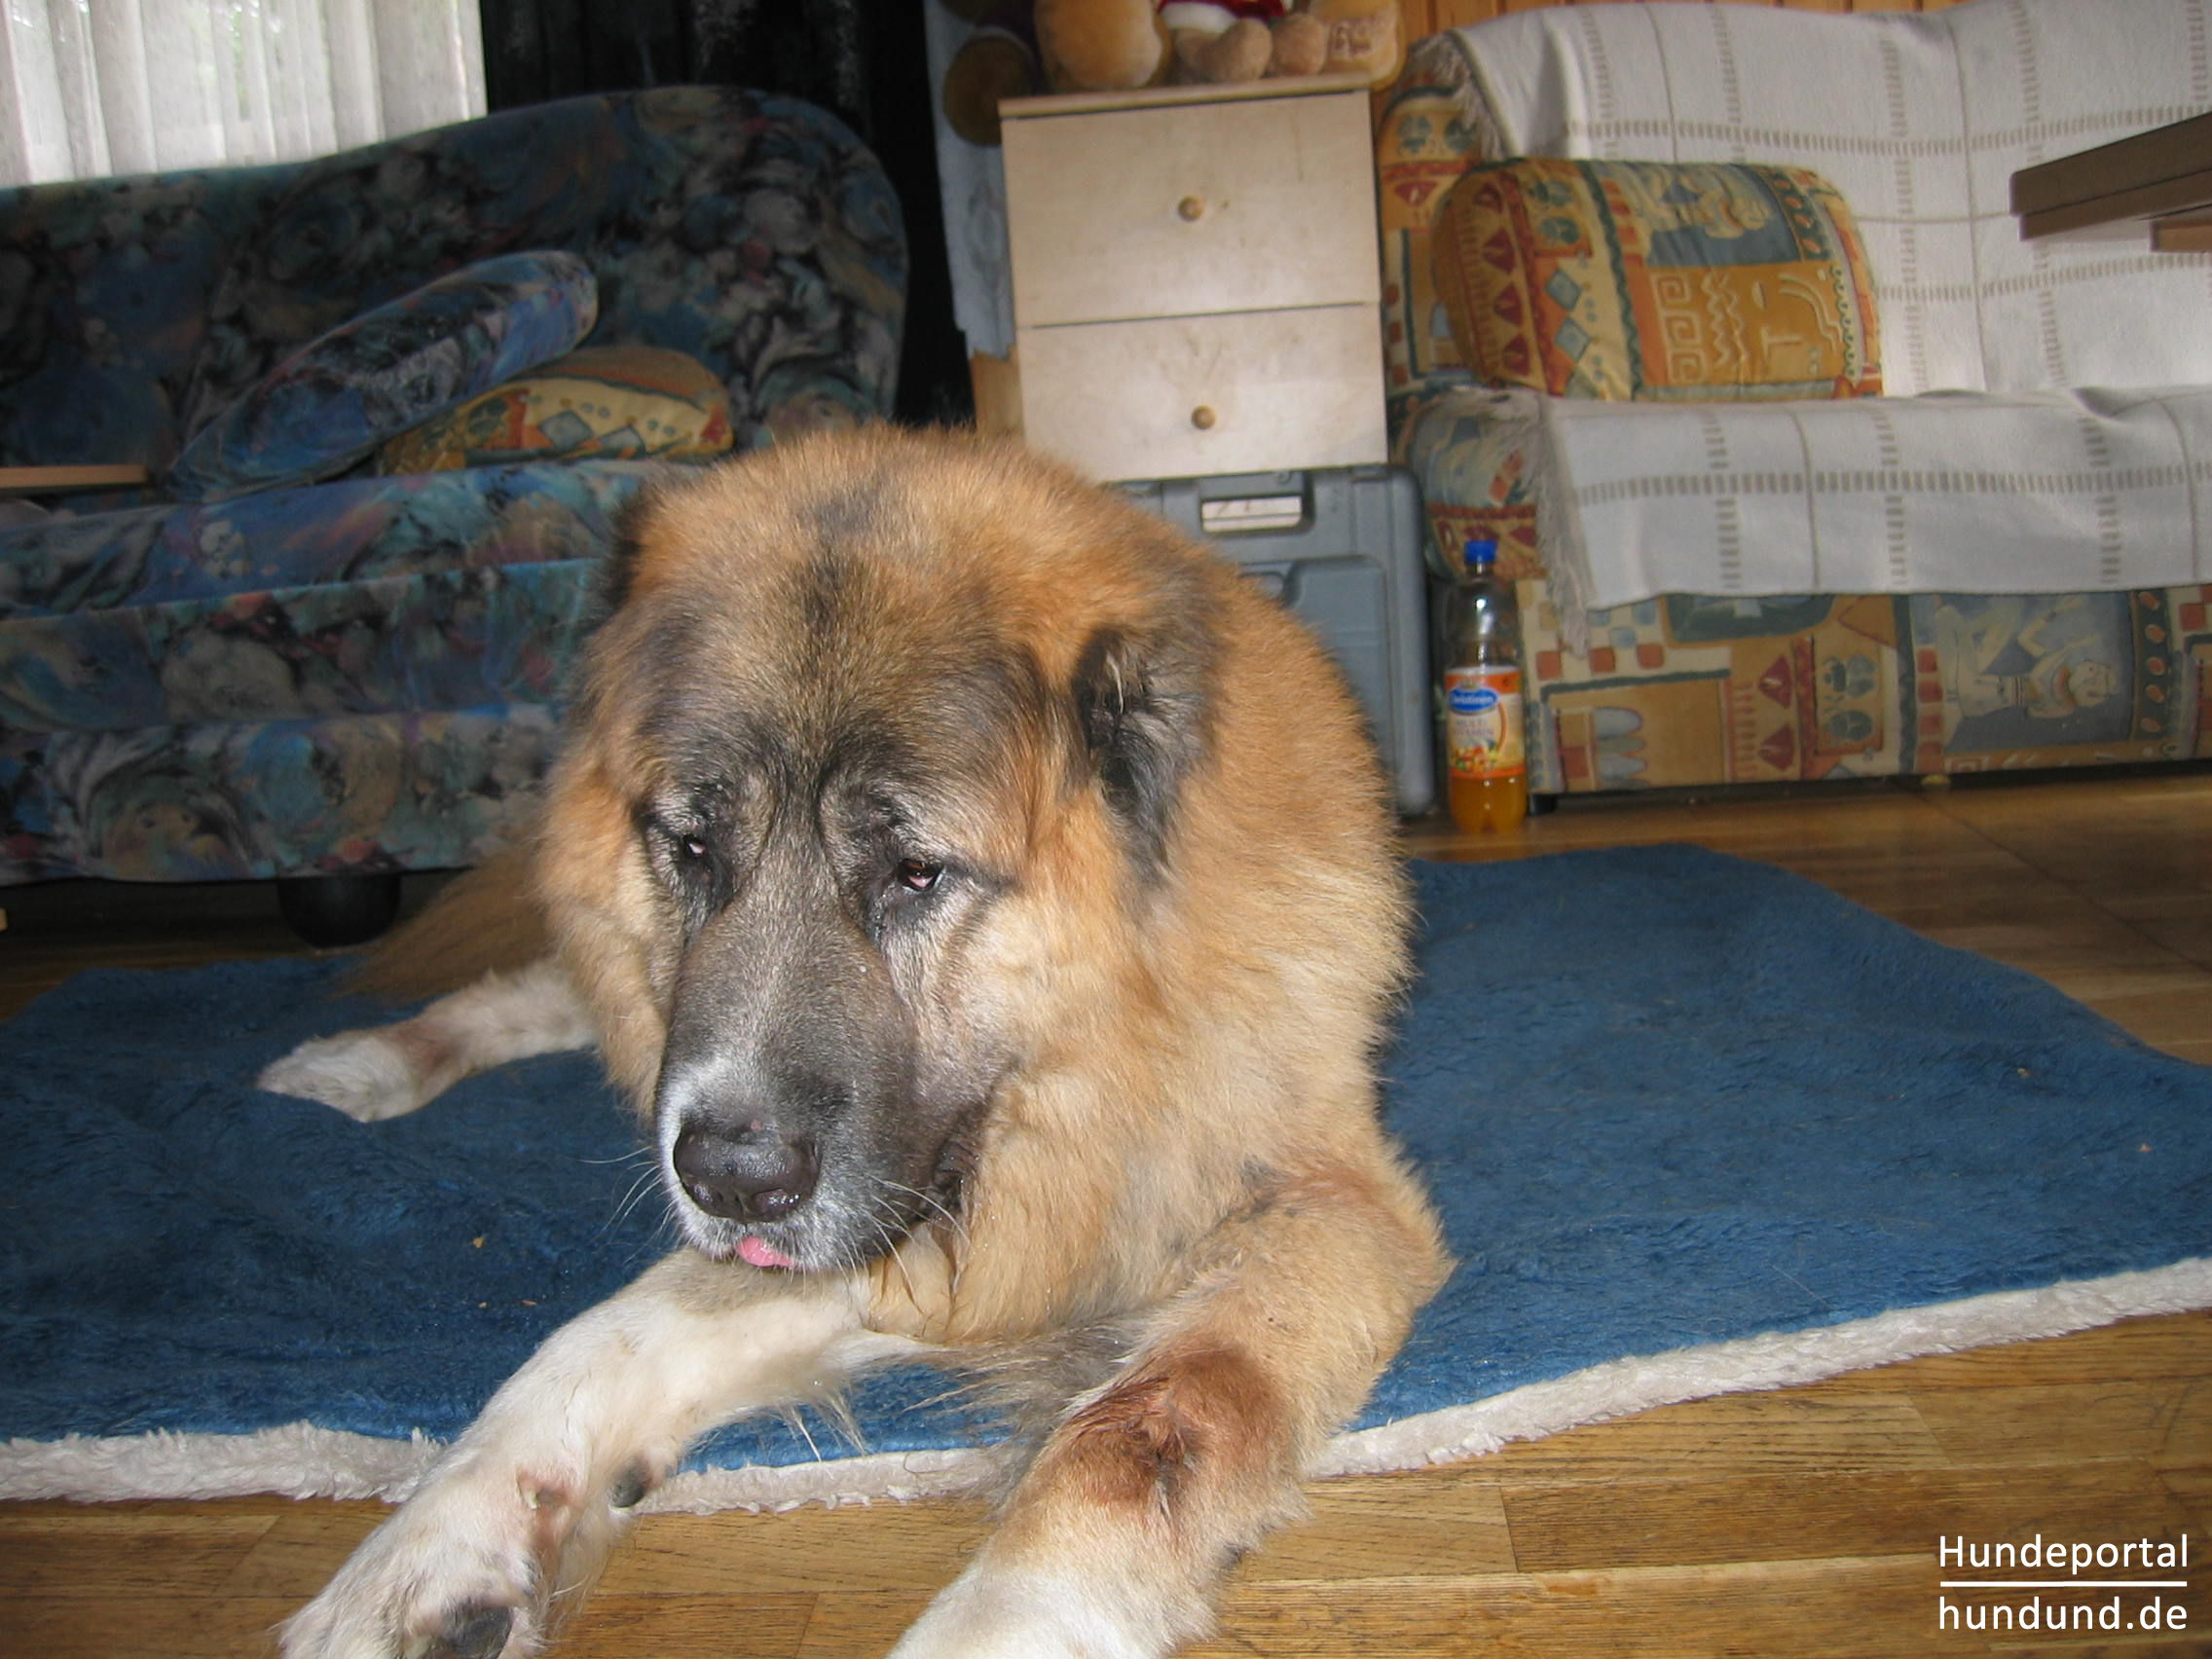cau_ovcharka: (246, 420, 1453, 1659)
